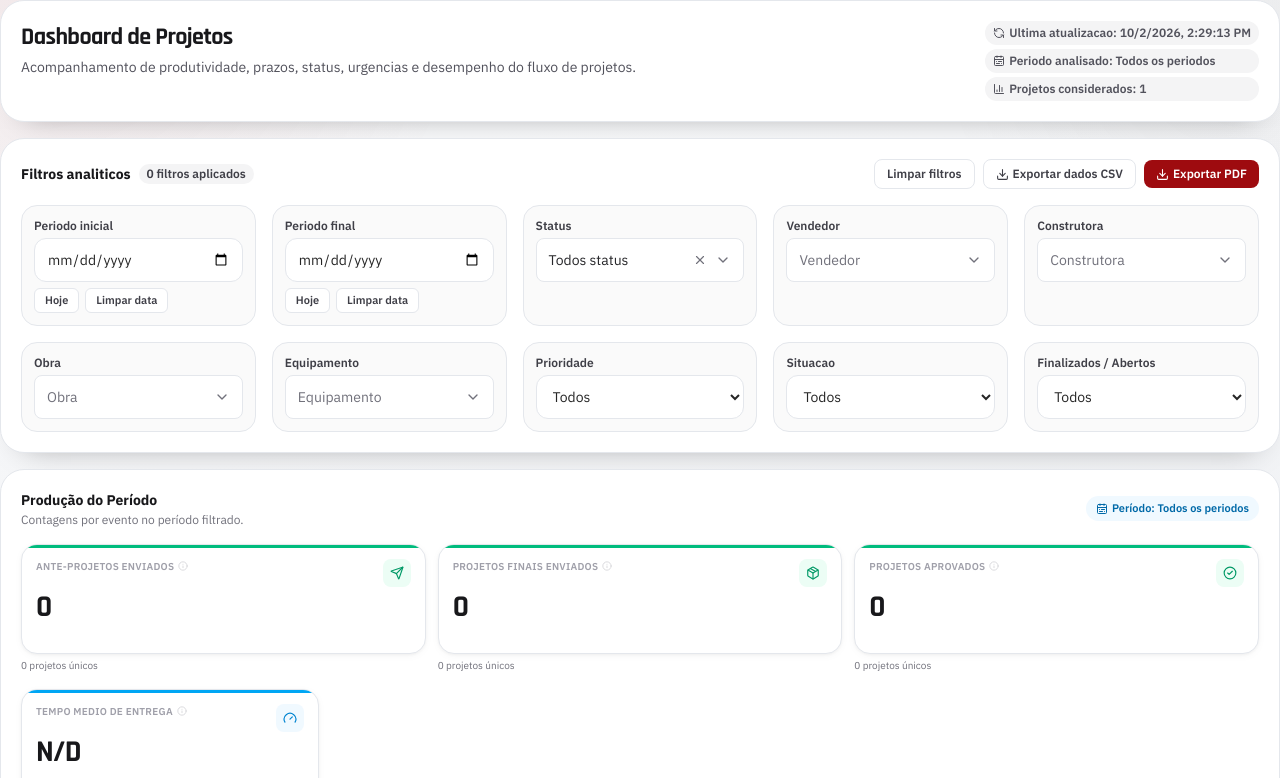
Test: projects kpi dashboard › mostra erro amigável quando a exportação retorna 403
Click the button "Exportar PDF". click: (1201, 174)
box: [1144,160,1259,188]
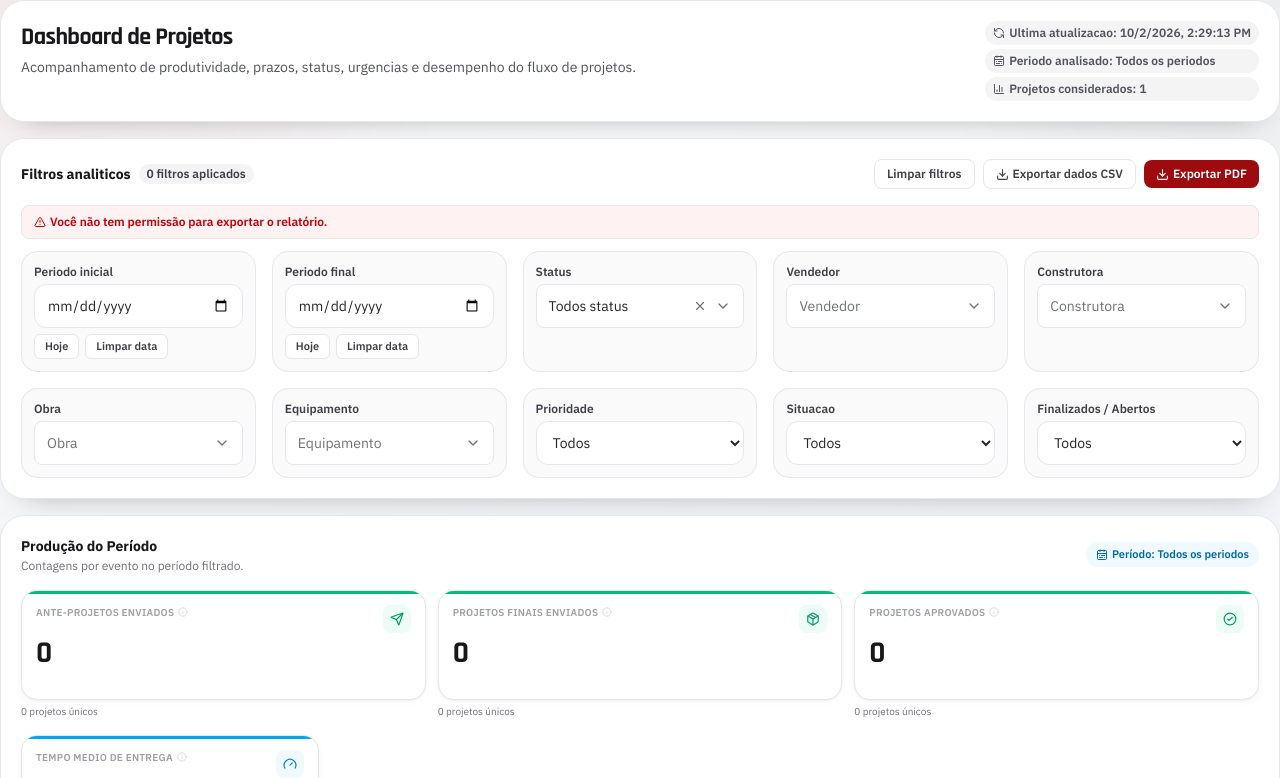
Check: the text "Você não tem permissão para exportar o relatório." is shown, box [21,205,1259,239]
